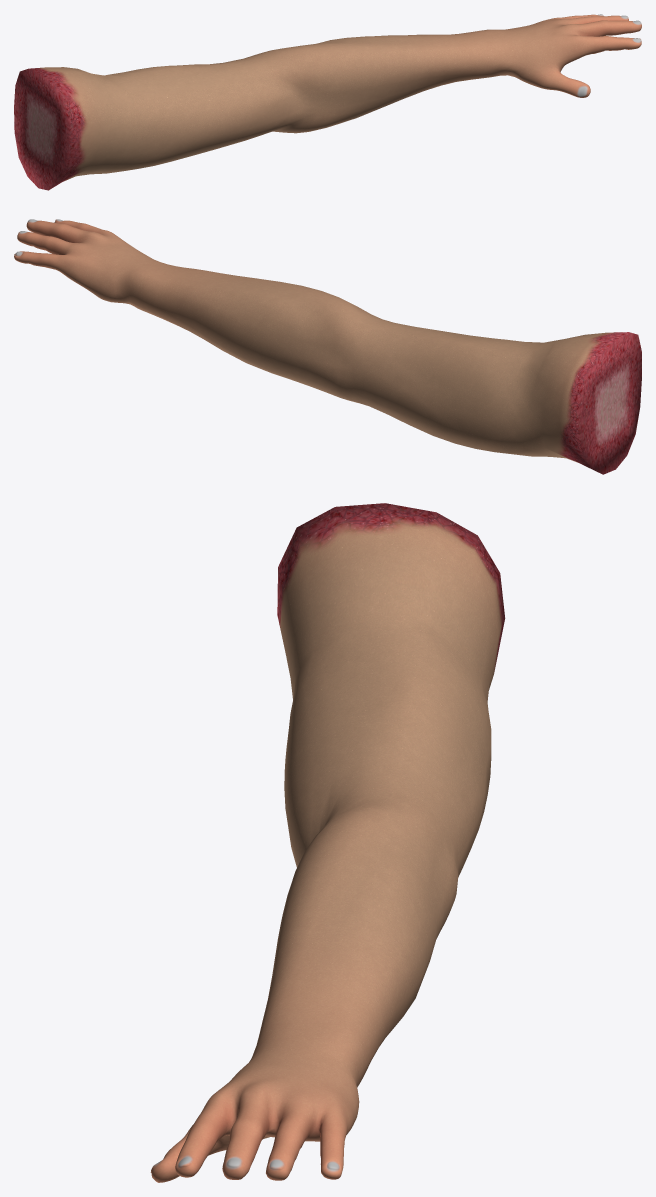
File: Arm.glb
The picture shows the model from 3 angles, top to bottom: view 1: azimuth 30°, elevation 25°; view 2: azimuth 150°, elevation 25°; view 3: azimuth 270°, elevation 25°; orthographic projection. The views are drawn at different scales.
Parts seen in each view (by area): view 1: Object; view 2: Object; view 3: Object.
Part boxes in pixels (<box>): Object: <box>14,14,641,190</box>; Object: <box>14,219,641,474</box>; Object: <box>150,503,505,1182</box>.
Size of what is drawn, in the model's own units: 0.9545 by 0.1876 by 0.2596.
Materials: 1 (1 with a texture image).
